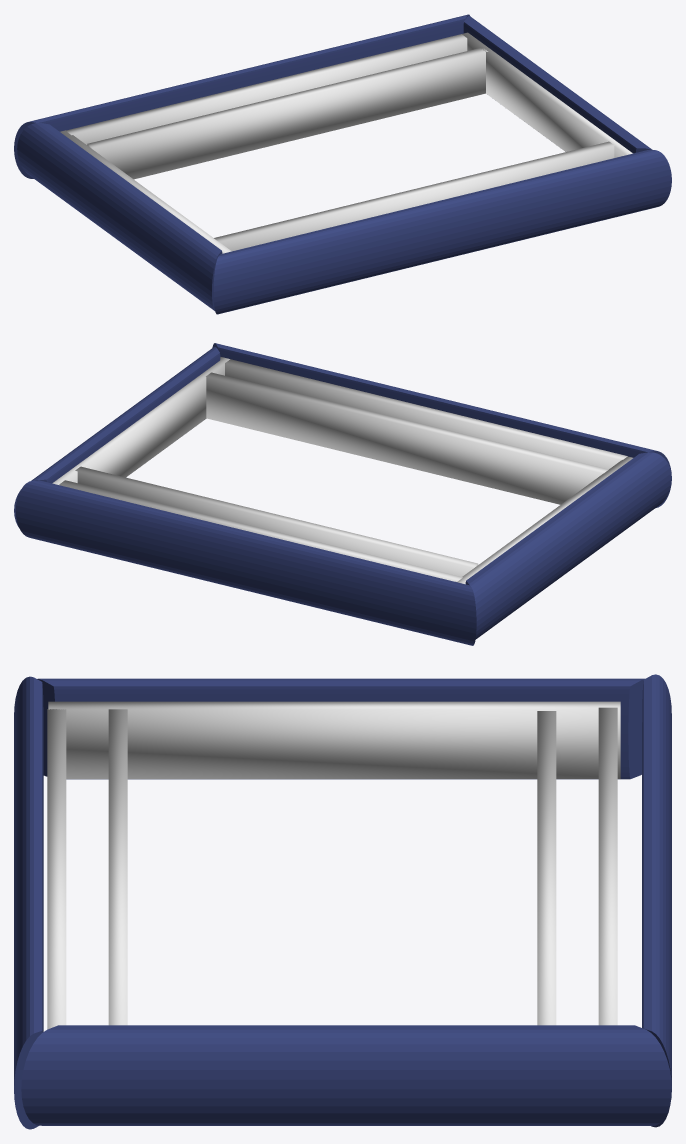
File: Chassis.dae
The picture shows the model from 3 angles, top to bottom: view 1: azimuth 30°, elevation 25°; view 2: azimuth 150°, elevation 25°; view 3: azimuth 270°, elevation 25°; orthographic projection. The views are drawn at different scales.
Visible parts, largest first — view 1: Chassis, BumperRight, BumperBack, BumperLeft, BumperFront; view 2: Chassis, BumperLeft, BumperBack, BumperRight, BumperFront; view 3: Chassis, BumperFront, BumperBack, BumperRight, BumperLeft.
Boxes of the visible parts, bbox=[...] form: Chassis: bbox=[60, 32, 632, 253]; BumperRight: bbox=[213, 150, 671, 314]; BumperBack: bbox=[17, 123, 222, 310]; BumperLeft: bbox=[14, 14, 469, 178]; BumperFront: bbox=[463, 16, 652, 153]; Chassis: bbox=[52, 357, 632, 584]; BumperLeft: bbox=[15, 480, 476, 645]; BumperBack: bbox=[465, 452, 671, 639]; BumperRight: bbox=[212, 343, 671, 508]; BumperFront: bbox=[14, 347, 220, 527]; Chassis: bbox=[47, 701, 620, 1029]; BumperFront: bbox=[21, 1025, 671, 1125]; BumperBack: bbox=[37, 678, 644, 779]; BumperRight: bbox=[14, 676, 43, 1129]; BumperLeft: bbox=[642, 674, 671, 1127].
Bounding box in the file's own units: 2.33 × 1.72 × 0.2756.
2 materials, 1 textured.
